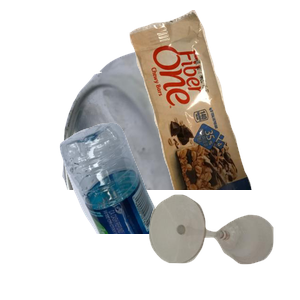glass: (147, 192, 300, 300)
metal: (60, 44, 300, 224)
plastic: (57, 120, 284, 300)
trash: (127, 10, 300, 190)
